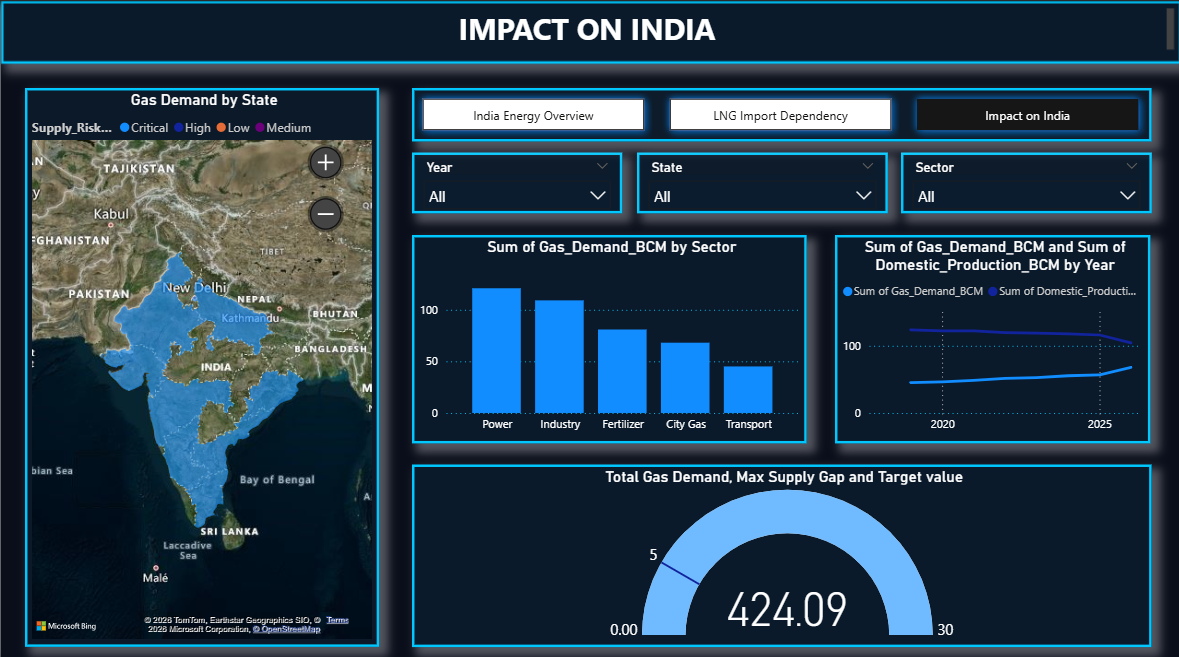

The dashboard page shown, as its layout file describes it:
{"tool":"powerbi","page":{"name":"Impact on India","canvas":[1280,720],"ordinal":2},"visuals":[{"type":"textbox","box":[0,0,1280,68],"z":0},{"type":"filledMap","title":"Gas Demand by State","fields":{"Category":["India_Gas_Consumption_2019_2026.State"],"Series":["India_Gas_Consumption_2019_2026.Supply_Risk_Level"]},"box":[26,94,384,606],"z":1000},{"type":"clusteredColumnChart","fields":{"Category":["India_Gas_Consumption_2019_2026.Sector"],"Y":["Sum(India_Gas_Consumption_2019_2026.Gas_Demand_BCM)"]},"box":[446,254,428,226],"z":2000},{"type":"lineChart","fields":{"Category":["India_Gas_Consumption_2019_2026.Year"],"Y":["Sum(India_Gas_Consumption_2019_2026.Gas_Demand_BCM)","Sum(India_Gas_Consumption_2019_2026.Domestic_Production_BCM)"]},"box":[904,254,342,226],"z":3000},{"type":"slicer","fields":{"Values":["India_Gas_Consumption_2019_2026.State"]},"box":[690,164,272,66],"z":4000},{"type":"slicer","fields":{"Values":["India_Gas_Consumption_2019_2026.Sector"]},"box":[976,164,272,66],"z":5000},{"type":"gauge","fields":{"MaxValue":["LNG_Imports_India_2019_2026.Max Supply Gap"],"TargetValue":["LNG_Imports_India_2019_2026.Target value"],"Y":["LNG_Imports_India_2019_2026.Total Gas Demand"]},"box":[446,502,802,198],"z":6000},{"type":"slicer","fields":{"Values":["LNG_Imports_India_2019_2026.Year"]},"box":[446,164,228,66],"z":7000},{"type":"pageNavigator","box":[446,94,802,58],"z":8000}]}

Visuals, with their boxes in screenshot pixels (x1, y1, x2, y2), scaled from the page's 1280x720 canvas onto the 1179x657 screenshot:
textbox: [x1=0, y1=0, x2=1178, y2=62]
"Gas Demand by State" filledMap: [x1=24, y1=86, x2=378, y2=639]
clusteredColumnChart - India_Gas_Consumption_2019_2026.Sector x Sum(India_Gas_Consumption_2019_2026.Gas_Demand_BCM): [x1=411, y1=232, x2=805, y2=438]
lineChart - India_Gas_Consumption_2019_2026.Year x Sum(India_Gas_Consumption_2019_2026.Gas_Demand_BCM): [x1=833, y1=232, x2=1148, y2=438]
slicer - India_Gas_Consumption_2019_2026.State: [x1=636, y1=150, x2=886, y2=210]
slicer - India_Gas_Consumption_2019_2026.Sector: [x1=899, y1=150, x2=1150, y2=210]
gauge - LNG_Imports_India_2019_2026.Max Supply Gap x LNG_Imports_India_2019_2026.Target value: [x1=411, y1=458, x2=1150, y2=639]
slicer - LNG_Imports_India_2019_2026.Year: [x1=411, y1=150, x2=621, y2=210]
pageNavigator: [x1=411, y1=86, x2=1150, y2=139]
